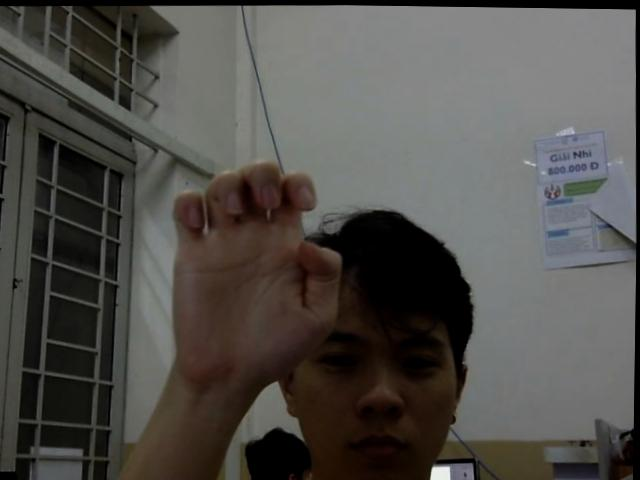E: (169, 157, 345, 379)
